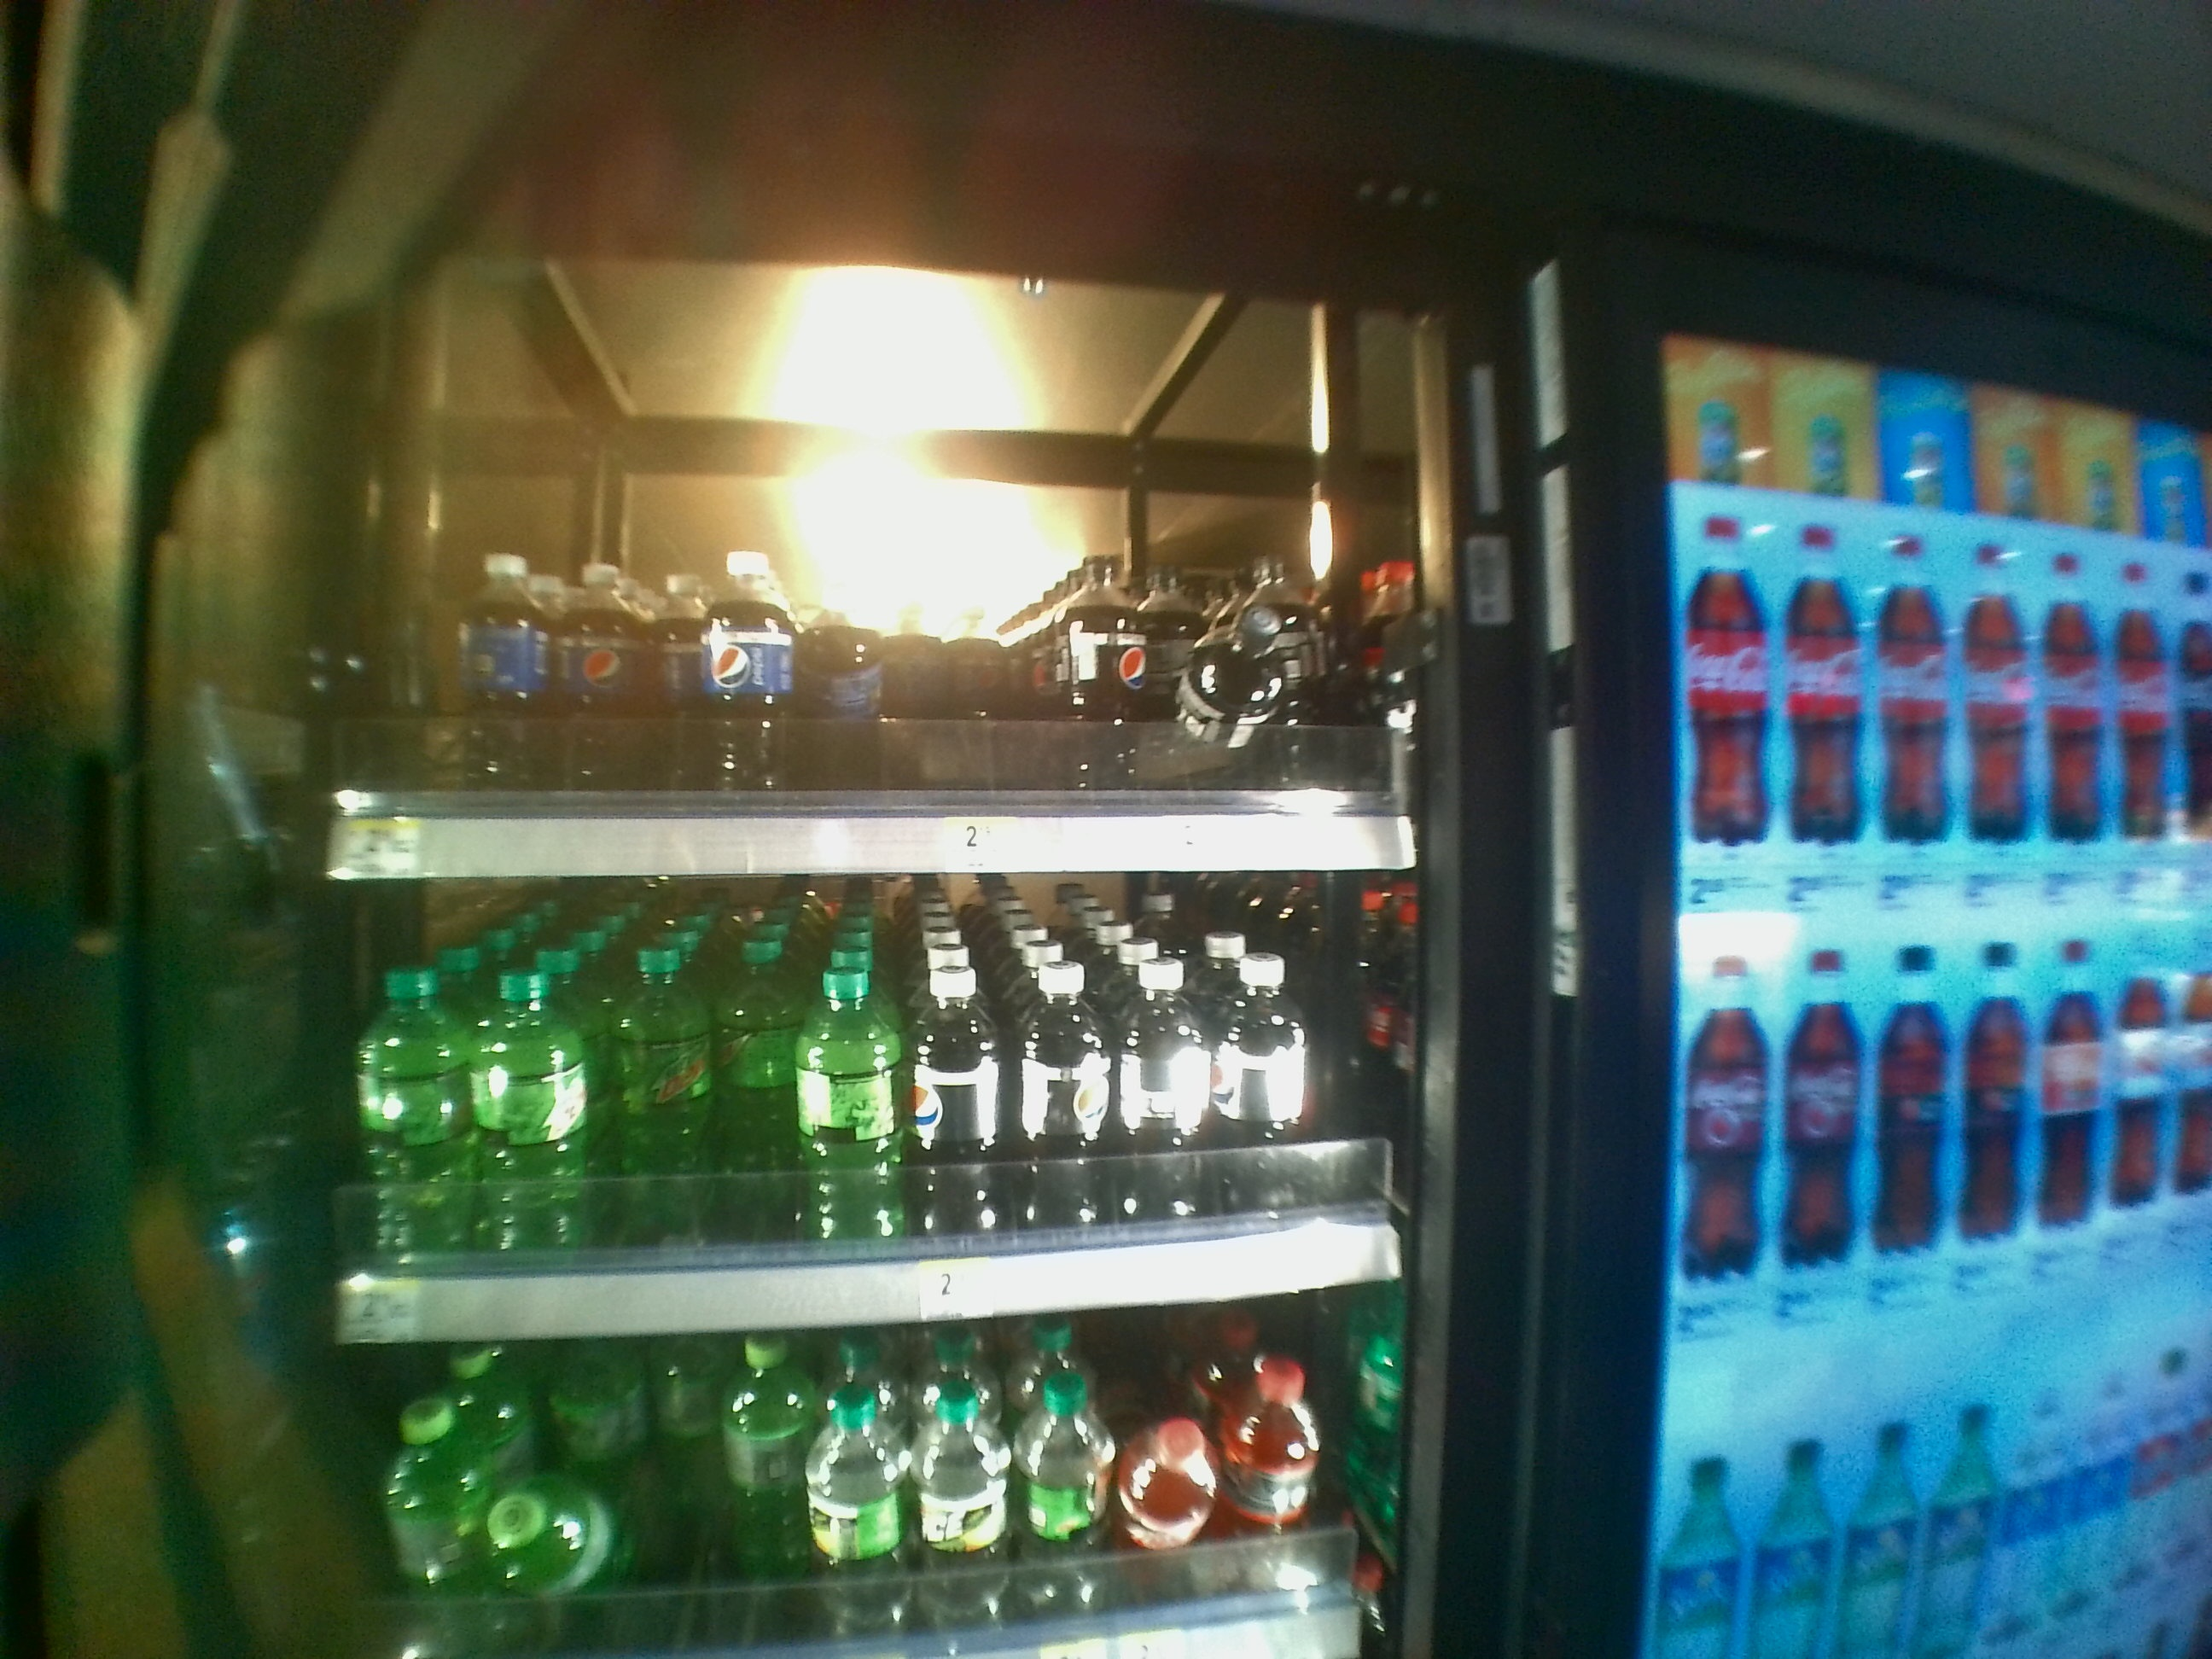shelf: (343, 211, 1435, 880), (320, 875, 1446, 1307)
